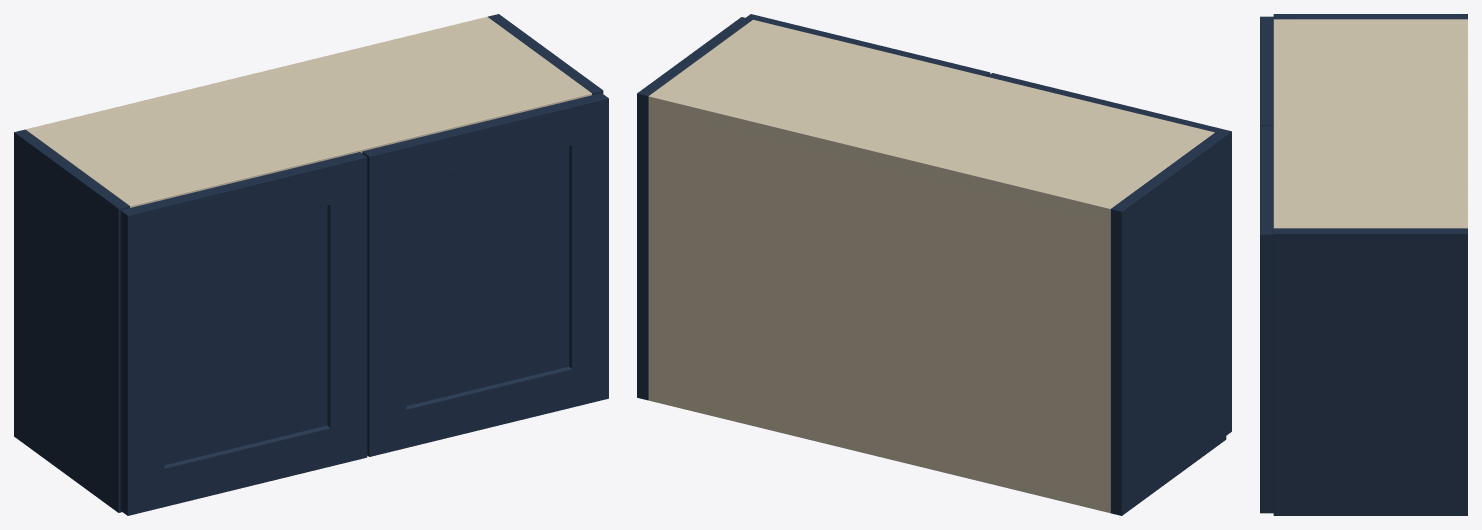
Rendered from oppein-ply-bss-w3018.glb.
3 views of the same model, side by side, from view 1: azimuth 30°, elevation 25°; view 2: azimuth 150°, elevation 25°; view 3: azimuth 270°, elevation 25° (orthographic). The views are drawn at different scales.
Parts seen in each view (by area): view 1: Door, Door.001, Cabinet top, Cabinet side, Cabinet back, Cabinet side.001; view 2: Cabinet back, Cabinet top, Cabinet side, Cabinet side.001, Door, Door.001; view 3: Cabinet side.001, Cabinet top, Door.001, Cabinet back, Door, Cabinet side.
Boxes of the visible parts, x1,y1,x2,y2 form: Door: [120, 152, 367, 515]; Door.001: [362, 93, 608, 456]; Cabinet top: [30, 17, 591, 207]; Cabinet side: [14, 129, 129, 512]; Cabinet back: [25, 16, 490, 132]; Cabinet side.001: [488, 14, 603, 95]; Cabinet back: [648, 93, 1113, 512]; Cabinet top: [648, 19, 1214, 219]; Cabinet side: [1110, 132, 1226, 515]; Cabinet side.001: [637, 17, 752, 400]; Door: [987, 73, 1231, 435]; Door.001: [746, 14, 990, 76]; Cabinet side.001: [1273, 228, 1467, 515]; Cabinet top: [1273, 19, 1467, 228]; Door.001: [1260, 126, 1273, 513]; Cabinet back: [1460, 19, 1467, 228]; Door: [1260, 16, 1273, 125]; Cabinet side: [1273, 14, 1467, 19].
Bounding box in the file's own units: 0.762 × 0.4572 × 0.3048.
